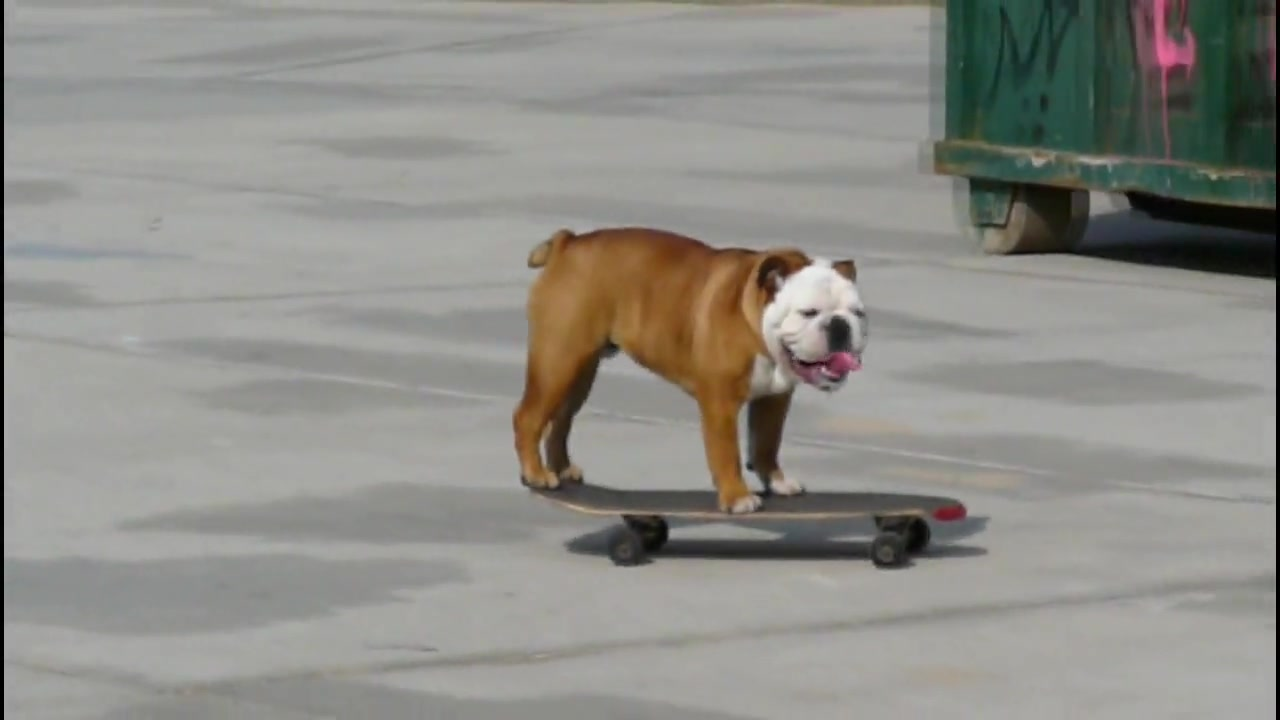dog: (512, 224, 872, 521)
